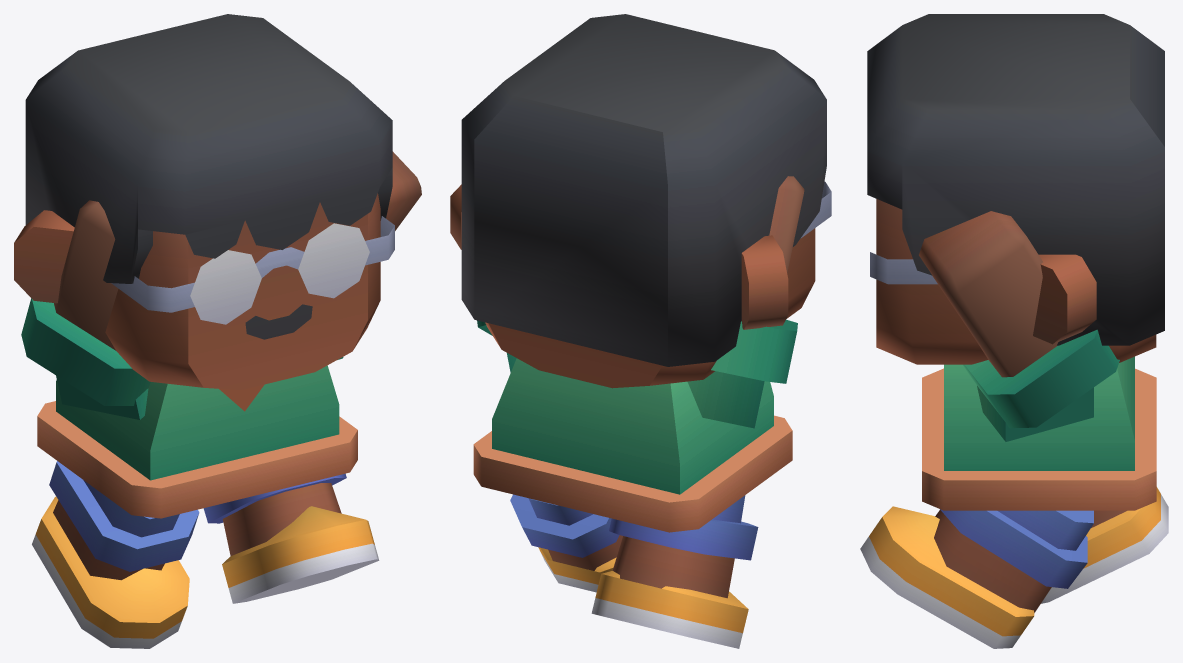
Rendered from walker-male-a-walk-a.glb.
3 renders of one model, left to right at view 1: azimuth 30°, elevation 25°; view 2: azimuth 150°, elevation 25°; view 3: azimuth 270°, elevation 25°, orthographic.
Parts seen in each view (by area): view 1: character-male-a-walk-a; view 2: character-male-a-walk-a; view 3: character-male-a-walk-a.
Boxes of the visible parts, x1,y1,x2,y2 form: character-male-a-walk-a: (14,14,421,648); character-male-a-walk-a: (450,14,831,648); character-male-a-walk-a: (860,14,1168,648).
Size of the model in its own units: 0.4719 by 0.7123 by 0.3525.
1 material, 1 textured.
